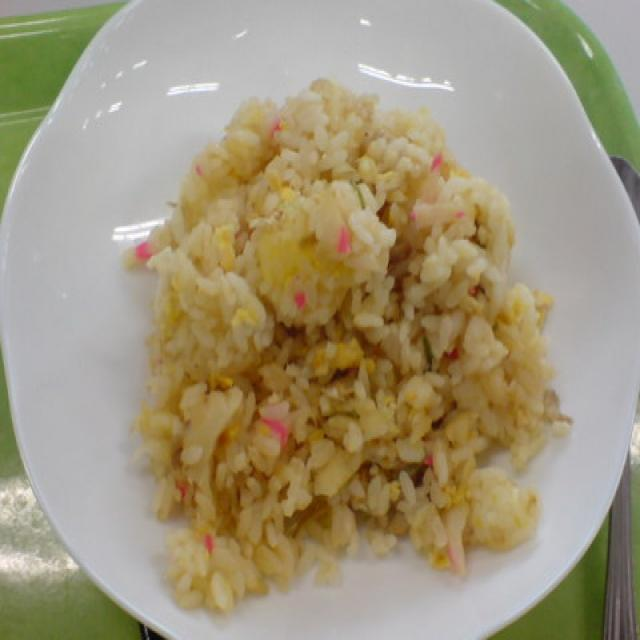米饭主食: (108, 58, 552, 610)
